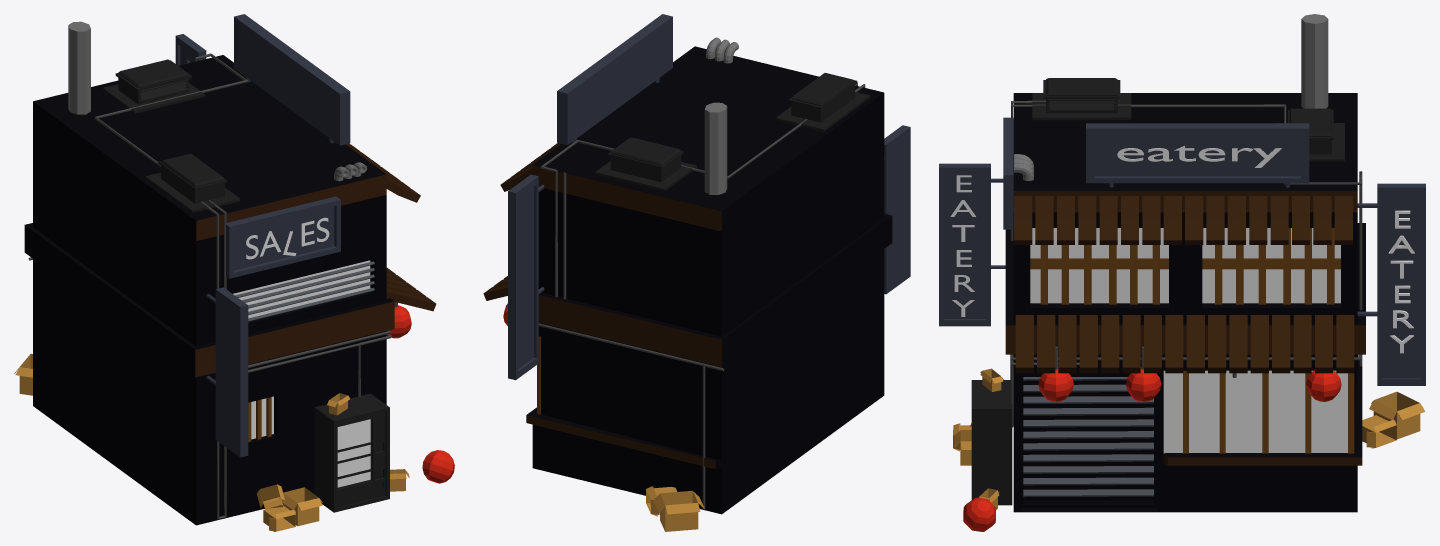
File: sss.fbx
3 renders of one model, left to right at view 1: azimuth 30°, elevation 25°; view 2: azimuth 150°, elevation 25°; view 3: azimuth 270°, elevation 25°, orthographic. The views are drawn at different scales.
Parts seen in each view (by area): view 1: Cube, Куб.001, Куб.017, Куб.004, Куб.020, Vert, Плоскость.001, Cube.004, Cylinder, Cube.003, Sphere.002, Text.002 (+2 smaller); view 2: Cube, Куб.001, Куб.004, Vert, Cylinder, Куб.020, Cube.003, Плоскость.009; view 3: Cube, Cube.003, Куб.001, Cube.007, Cube.002, Плоскость.013, Куб.004, Cube.005, Cube.008, Куб.017, Куб.020, Sphere.002 (+5 smaller).
Part boxes in pixels (left/top/right/bottom): Cube: left=24, top=55, right=394, bottom=525; Куб.001: left=175, top=14, right=350, bottom=457; Куб.017: left=314, top=393, right=389, bottom=512; Куб.004: left=102, top=59, right=240, bottom=212; Куб.020: left=14, top=353, right=409, bottom=531; Vert: left=28, top=53, right=391, bottom=519; Плоскость.001: left=235, top=261, right=374, bottom=321; Cube.004: left=233, top=260, right=370, bottom=318; Cylinder: left=68, top=21, right=90, bottom=114; Cube.003: left=346, top=143, right=436, bottom=311; Sphere.002: left=389, top=305, right=454, bottom=483; Text.002: left=246, top=217, right=329, bottom=259; Cube: left=526, top=46, right=892, bottom=514; Куб.001: left=508, top=14, right=910, bottom=380; Куб.004: left=595, top=73, right=870, bottom=191; Vert: left=538, top=82, right=865, bottom=509; Cylinder: left=704, top=102, right=727, bottom=194; Куб.020: left=646, top=486, right=704, bottom=531; Cube.003: left=483, top=143, right=561, bottom=300; Плоскость.009: left=706, top=37, right=738, bottom=63; Cube: left=1005, top=93, right=1365, bottom=512; Cube.003: left=1014, top=196, right=1354, bottom=373; Куб.001: left=939, top=117, right=1425, bottom=385; Cube.007: left=1164, top=370, right=1347, bottom=452; Cube.002: left=1030, top=228, right=1354, bottom=453; Плоскость.013: left=1023, top=377, right=1153, bottom=497; Куб.004: left=1032, top=78, right=1344, bottom=161; Cube.005: left=1030, top=228, right=1168, bottom=303; Cube.008: left=1202, top=228, right=1340, bottom=303; Куб.017: left=971, top=380, right=1012, bottom=505; Куб.020: left=953, top=368, right=1425, bottom=509; Sphere.002: left=963, top=367, right=1341, bottom=531.
Size of the model in its own units: 759 by 1151 by 1234.
